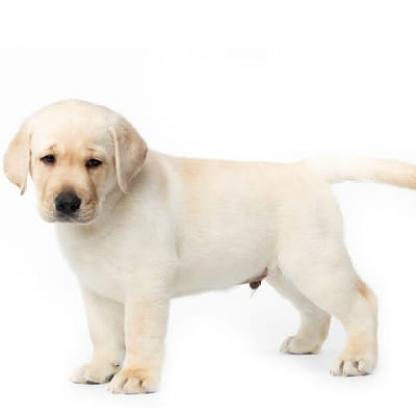Labarador Retriever: (1, 96, 416, 399)
